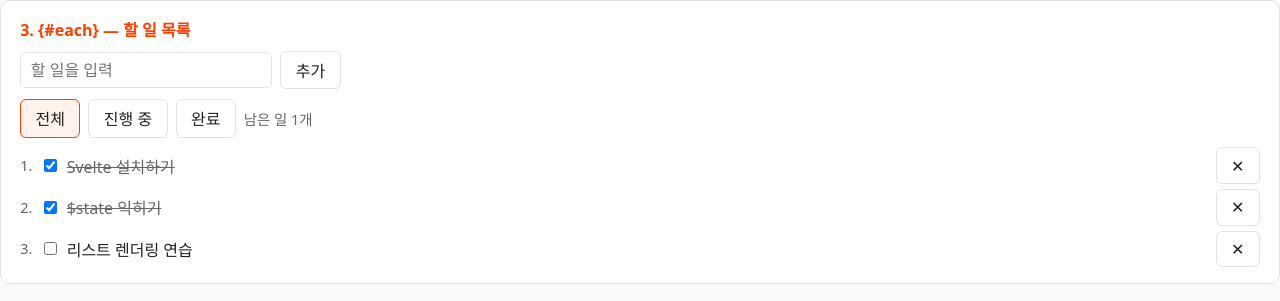
Test: TodoList (study4) › 필터: 완료 / 진행 중 / 전체
This screenshot has width=1280, height=301.
Click the button "완료".
click(206, 118)  # box 176,99 -> 236,138
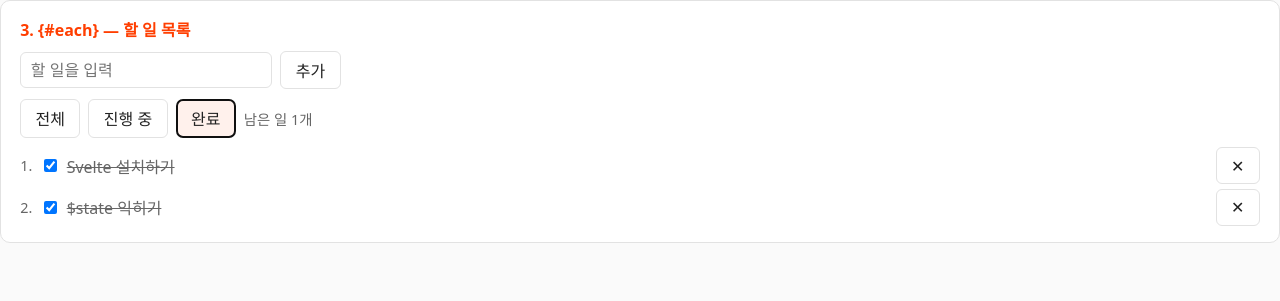
expect the number of list items is 2: met, box 20,147 -> 1260,184; 20,189 -> 1260,226
Click the button "진행 중".
click(128, 118)  # box 88,99 -> 168,138
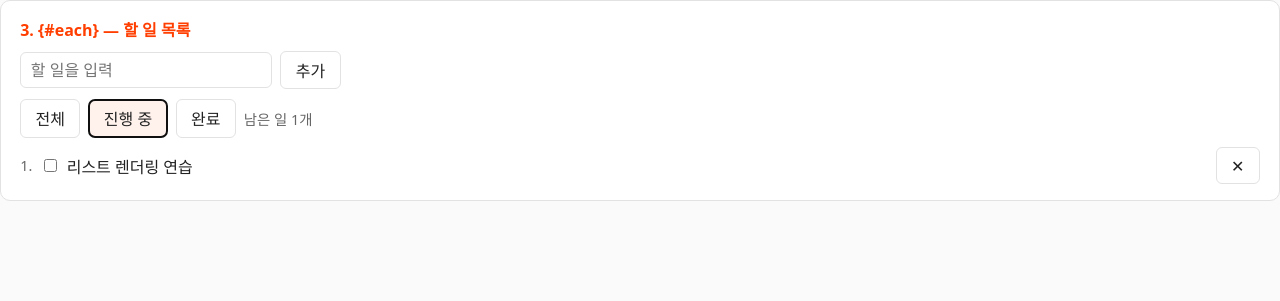
expect the number of list items is 1: met, box 20,147 -> 1260,184
expect the list item shows "리스트 렌더링 연습": met, box 67,156 -> 193,178
Click the button "전체".
click(50, 118)  # box 20,99 -> 80,138
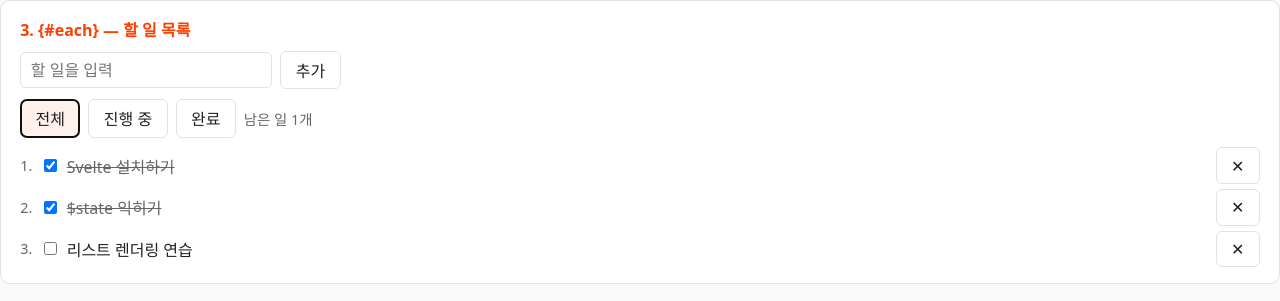
expect the number of list items is 3: met, box 20,147 -> 1260,184; 20,189 -> 1260,226; 20,230 -> 1260,267
